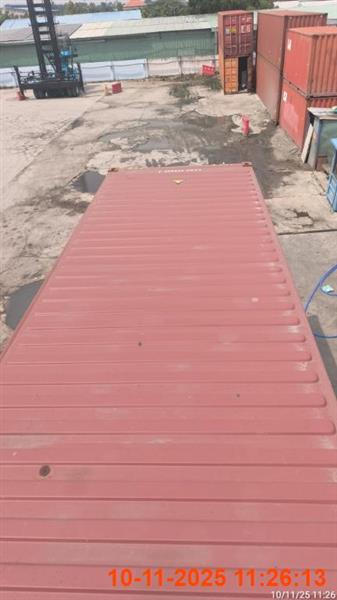broken: (1, 161, 335, 598)
